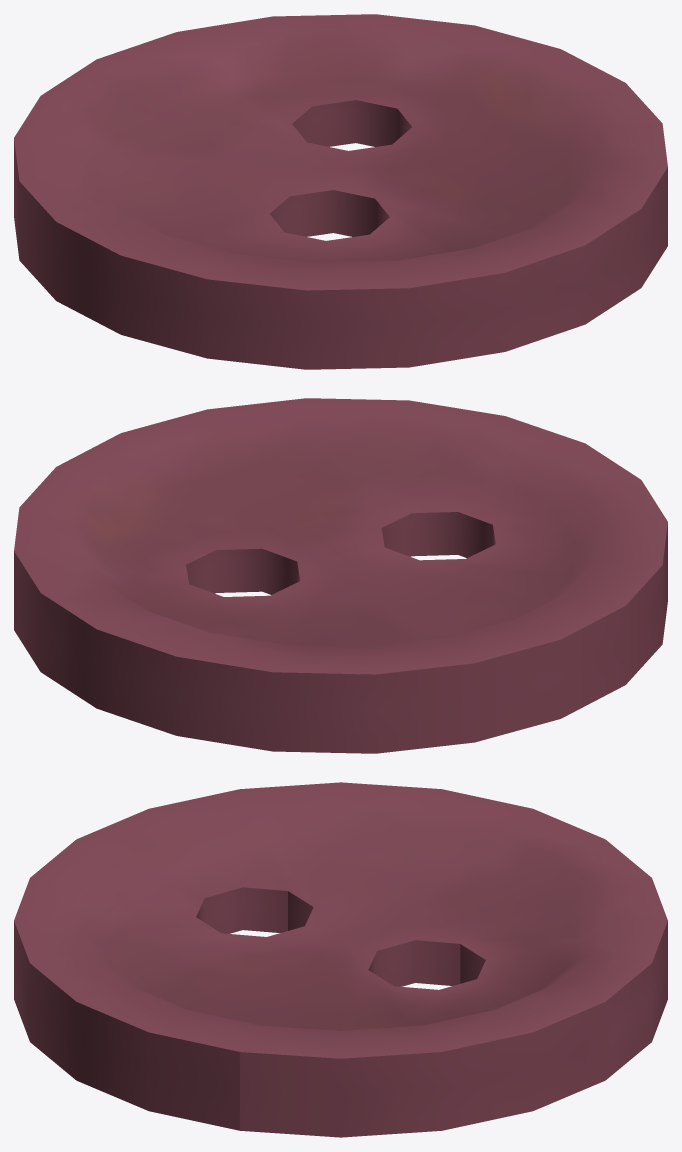
File: SM_Farm_Button_05.fbx
3 renders of one model, top to bottom at view 1: azimuth 30°, elevation 25°; view 2: azimuth 150°, elevation 25°; view 3: azimuth 270°, elevation 25°, orthographic.
Parts seen in each view (by area): view 1: SM_Farm_Button_05_LOD0; view 2: SM_Farm_Button_05_LOD0; view 3: SM_Farm_Button_05_LOD0.
Boxes of the visible parts, left/top/right/bottom form: SM_Farm_Button_05_LOD0: left=14, top=14, right=667, bottom=369; SM_Farm_Button_05_LOD0: left=14, top=398, right=667, bottom=753; SM_Farm_Button_05_LOD0: left=14, top=782, right=667, bottom=1137.
Bounding box in the file's own units: 5.88 × 0.7813 × 5.88.
